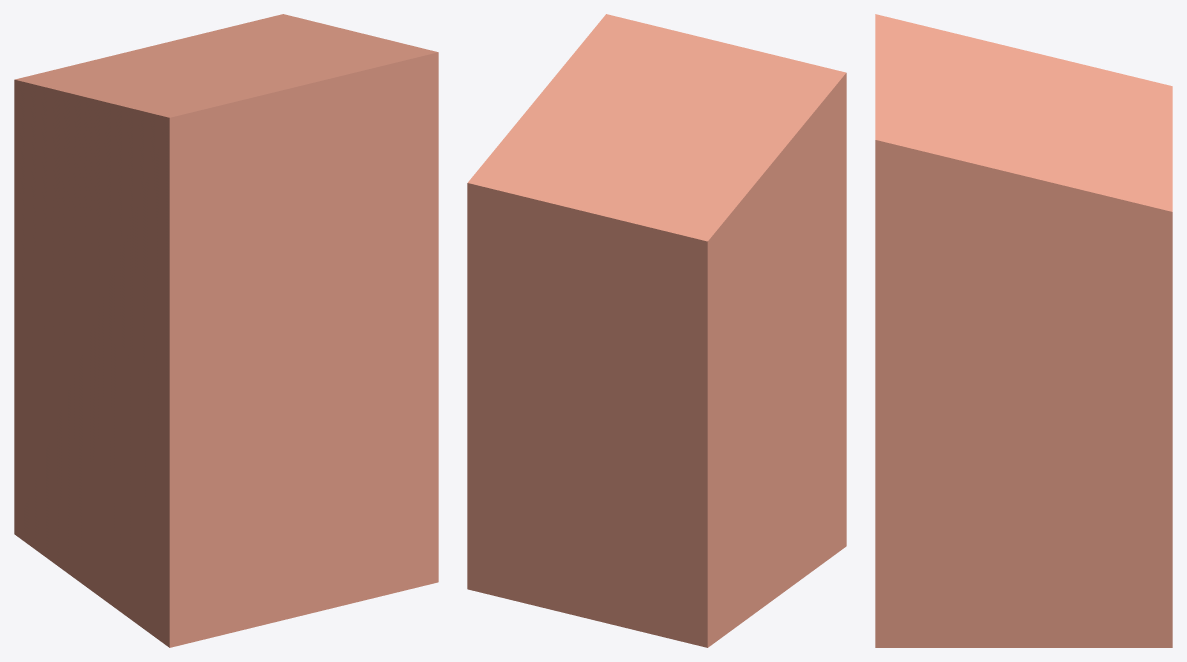
The model's file is home_3x3_hi.fbx.
3 renders of one model, left to right at view 1: azimuth 30°, elevation 25°; view 2: azimuth 150°, elevation 25°; view 3: azimuth 270°, elevation 25°, orthographic. The views are drawn at different scales.
Visible parts, largest first — view 1: Model; view 2: Model; view 3: Model.
Part boxes in pixels (x1,y1,x2,y2): Model: (14,14,438,647); Model: (467,14,846,647); Model: (875,14,1172,647).
Size of the model in its own units: 3000 by 5653 by 3000.
